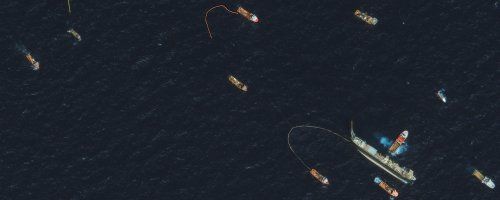ship: (348, 135, 423, 184), (384, 124, 416, 154), (369, 175, 403, 198), (352, 6, 381, 29), (470, 166, 497, 190), (225, 72, 249, 97), (234, 5, 261, 25), (305, 167, 332, 186), (21, 51, 43, 72), (65, 25, 86, 46), (436, 90, 447, 104)
